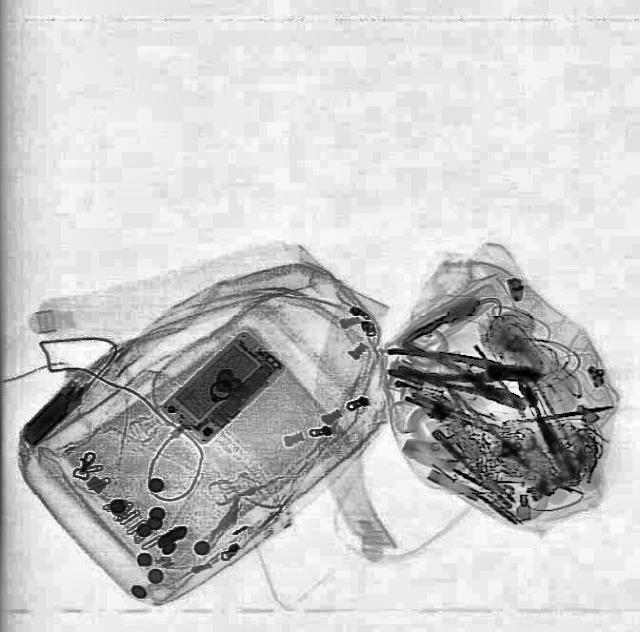Pliers: (386, 339, 532, 421), (384, 346, 546, 392)
